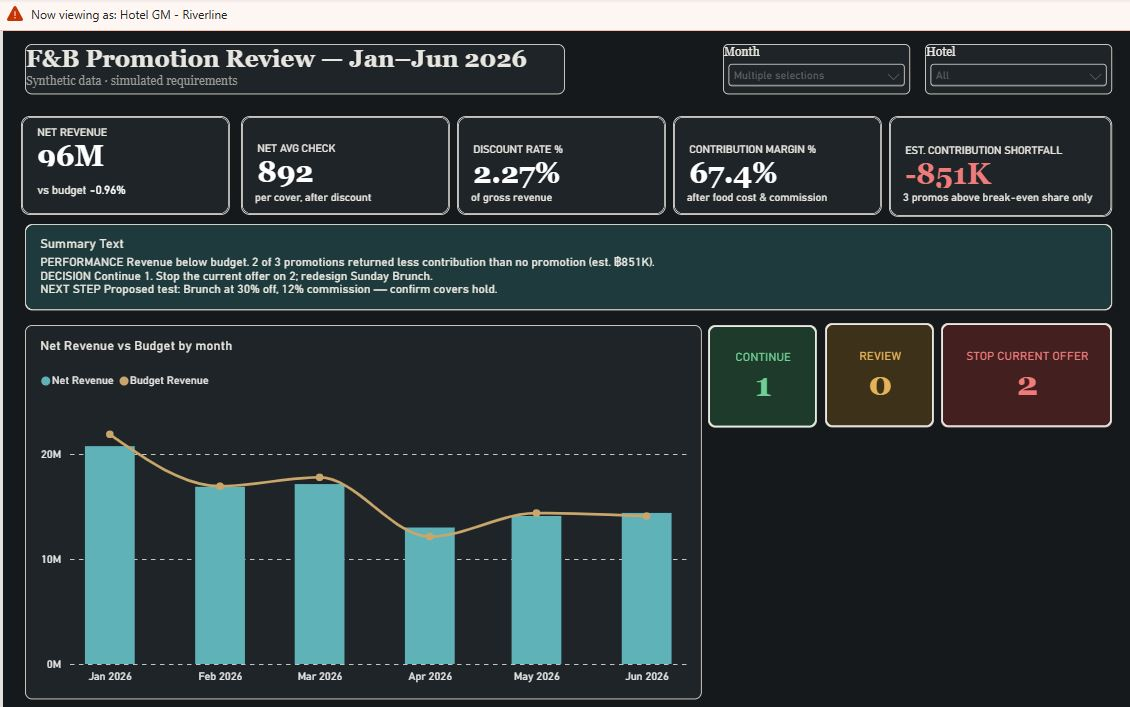

This screenshot's page, from the dashboard's own definition file:
{"tool":"powerbi","page":{"name":"Executive","canvas":[1300,980],"ordinal":0},"visuals":[{"type":"textbox","box":[24,40,600,56],"z":0},{"type":"slicer","title":"Month","fields":{"Values":["DimDate.MonthYear"]},"box":[800,40,208,56],"z":1000},{"type":"cardVisual","fields":{"Data":["_Measures.Net Revenue"]},"box":[20,120,232,110],"z":2000},{"type":"lineClusteredColumnComboChart","title":"Net Revenue vs Budget by month","fields":{"Category":["DimDate.MonthYear"],"Y":["_Measures.Net Revenue"],"Y2":["KPI.Budget Revenue"]},"box":[24,352,752,416],"z":3000},{"type":"cardVisual","fields":{"Data":["Promo decision.Promos Continue"]},"box":[783,352,121,114],"z":4000},{"type":"cardVisual","fields":{"Data":["Promo decision.Promos Review"]},"box":[913,350,121,116],"z":5000},{"type":"cardVisual","fields":{"Data":["Promo decision.Promos Stop"]},"box":[1042,350,190,116],"z":6000},{"type":"cardVisual","fields":{"Data":["_Measures.Summary Text"]},"box":[24,240,1208,96],"z":7000},{"type":"slicer","title":"Hotel","fields":{"Values":["DimHotel.HotelName"]},"box":[1024,40,208,56],"z":8000},{"type":"cardVisual","fields":{"Data":["KPI.Net Avg Check"]},"box":[264,120,232,110],"z":9000},{"type":"cardVisual","fields":{"Data":["KPI.Discount Rate %"]},"box":[504,120,232,110],"z":10000},{"type":"textbox","box":[280,200,160,24],"z":11000},{"type":"textbox","box":[520,200,120,24],"z":12000},{"type":"cardVisual","fields":{"Data":["KPI.CM %"]},"box":[744,120,232,110],"z":13000},{"type":"textbox","box":[760,200,176,24],"z":14000},{"type":"cardVisual","fields":{"Data":["Promo decision.Contribution Shortfall"]},"box":[984,120,248,112],"z":15000},{"type":"textbox","box":[1000,200,224,24],"z":16000}]}

Visuals, with their boxes on the page's 1300x980 design canvas (x1, y1, x2, y2). These are canvas units, not pixel positions in the 1130x707 screenshot, which may show the page scaled, cropped or inside an application window:
textbox: <bbox>24, 40, 624, 96</bbox>
"Month" slicer: <bbox>800, 40, 1008, 96</bbox>
cardVisual - _Measures.Net Revenue: <bbox>20, 120, 252, 230</bbox>
"Net Revenue vs Budget by month" lineClusteredColumnComboChart: <bbox>24, 352, 776, 768</bbox>
cardVisual - Promo decision.Promos Continue: <bbox>783, 352, 904, 466</bbox>
cardVisual - Promo decision.Promos Review: <bbox>913, 350, 1034, 466</bbox>
cardVisual - Promo decision.Promos Stop: <bbox>1042, 350, 1232, 466</bbox>
cardVisual - _Measures.Summary Text: <bbox>24, 240, 1232, 336</bbox>
"Hotel" slicer: <bbox>1024, 40, 1232, 96</bbox>
cardVisual - KPI.Net Avg Check: <bbox>264, 120, 496, 230</bbox>
cardVisual - KPI.Discount Rate %: <bbox>504, 120, 736, 230</bbox>
textbox: <bbox>280, 200, 440, 224</bbox>
textbox: <bbox>520, 200, 640, 224</bbox>
cardVisual - KPI.CM %: <bbox>744, 120, 976, 230</bbox>
textbox: <bbox>760, 200, 936, 224</bbox>
cardVisual - Promo decision.Contribution Shortfall: <bbox>984, 120, 1232, 232</bbox>
textbox: <bbox>1000, 200, 1224, 224</bbox>
